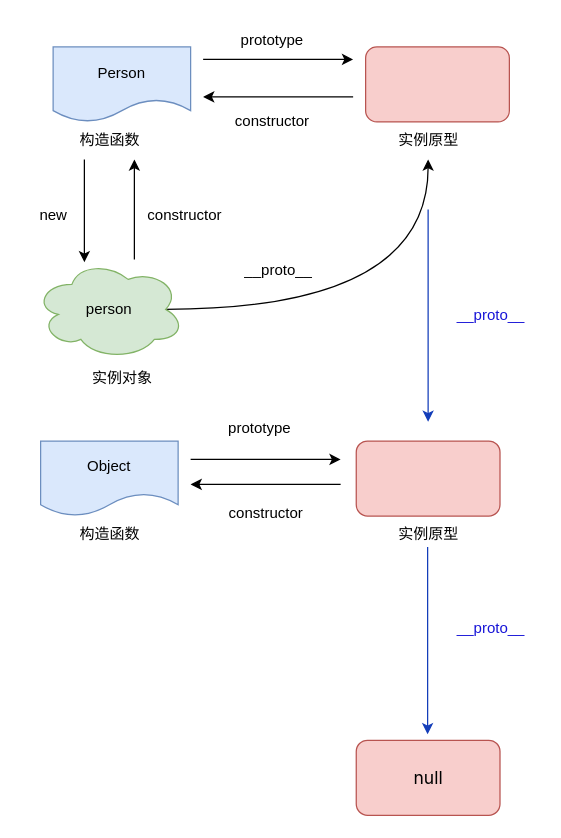
Some shapes in this 561 by 838 pixel diagram are drawn without their labels. Each missing label, with the box of its shape:
Object.prototype: (355, 440, 500, 516)
Person.prototype: (364, 46, 509, 122)
